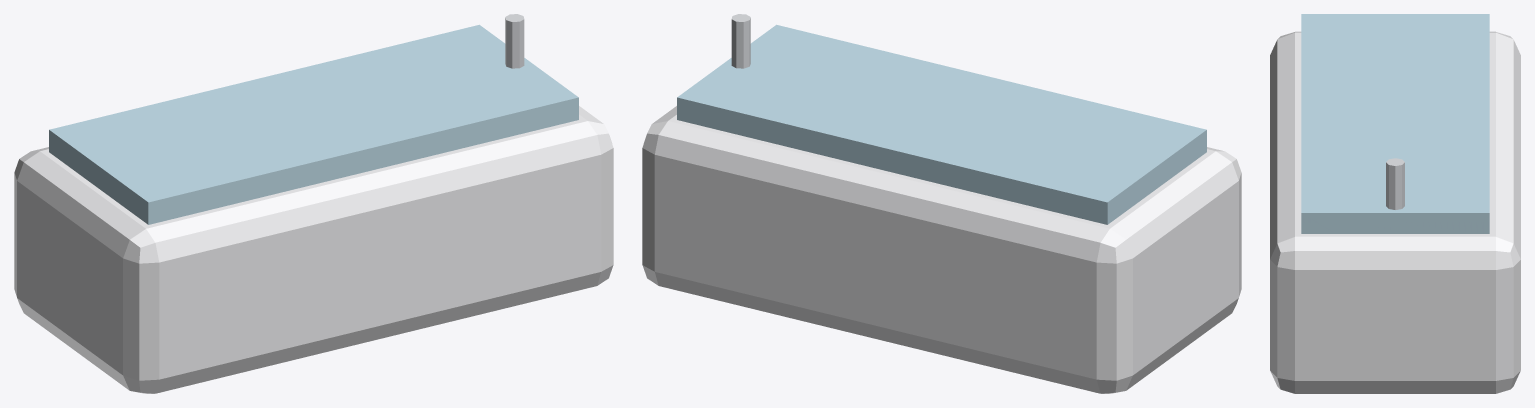
Rendered from th_badewanne.glb.
3 renders of one model, left to right at view 1: azimuth 30°, elevation 25°; view 2: azimuth 150°, elevation 25°; view 3: azimuth 270°, elevation 25°, orthographic. The views are drawn at different scales.
Parts seen in each view (by area): view 1: badewanne; view 2: badewanne; view 3: badewanne.
Boxes of the visible parts, x1,y1,x2,y2 form: badewanne: [14, 14, 613, 393]; badewanne: [642, 14, 1241, 393]; badewanne: [1270, 14, 1520, 393].
Bounding box in the file's own units: 1.7 × 0.78 × 0.8.
